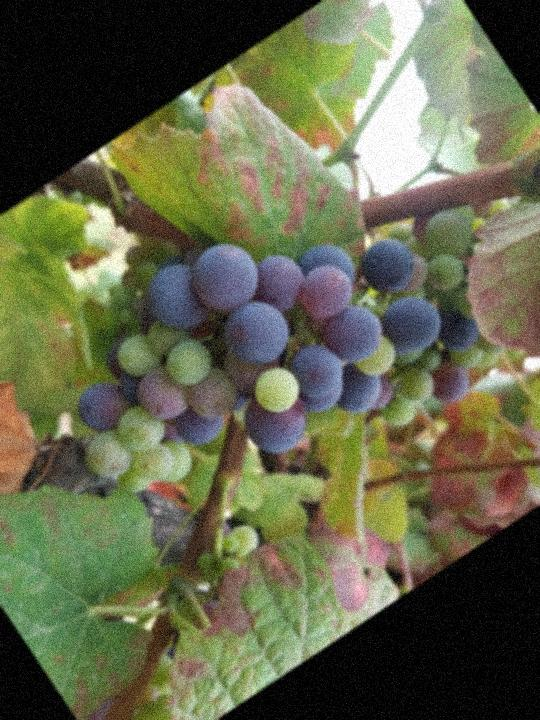grape: (16, 146, 475, 562)
